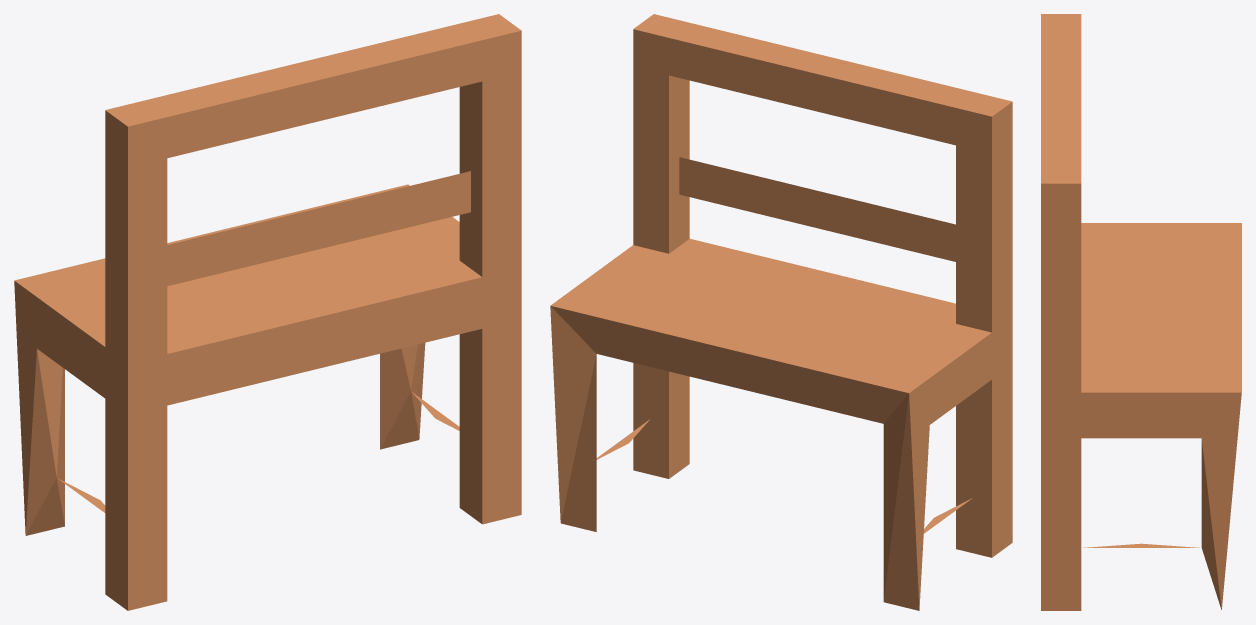
File: bench_vita.obj
The picture shows the model from 3 angles, left to right: view 1: azimuth 30°, elevation 25°; view 2: azimuth 150°, elevation 25°; view 3: azimuth 270°, elevation 25°; orthographic projection. The views are drawn at different scales.
Size of the model in its own units: 0.4 by 0.47 by 0.2.
